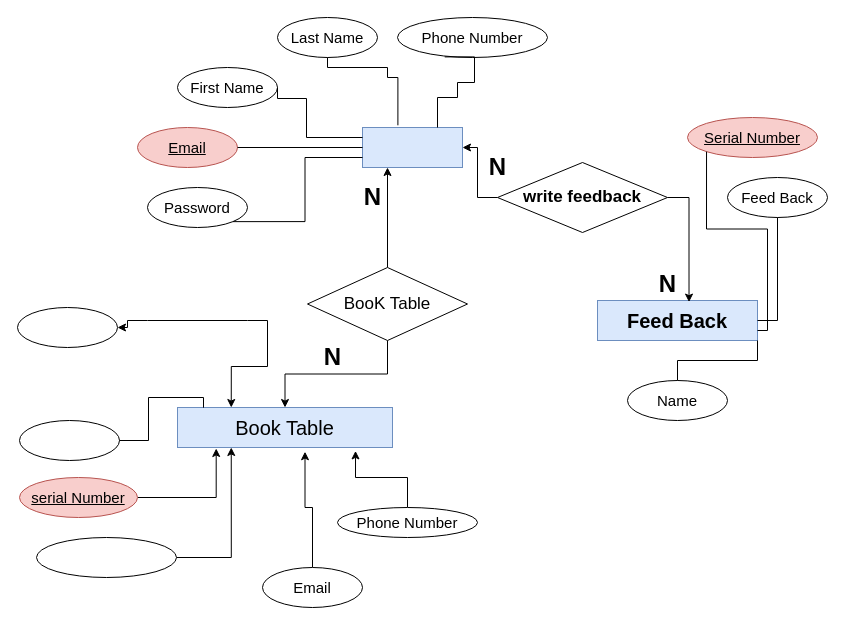
The diagram is 845 pixels wide and 625 high, and some of its shapes have lost their labels. The centre of each missing label's shape, as x and y in pixels:
# of people: (x=106, y=557)
Date: (x=67, y=327)
Time: (x=69, y=440)
User: (x=412, y=147)
